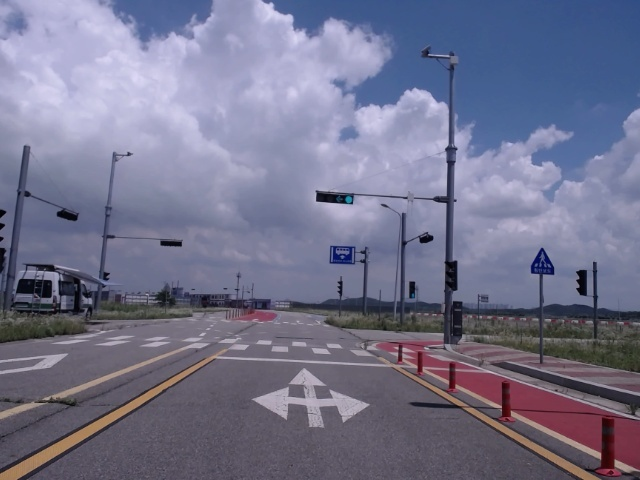all_green_4: (319, 191, 352, 203)
